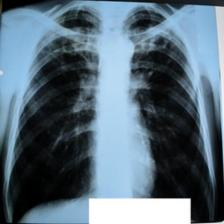tuberculosis: (0, 0, 221, 222)
